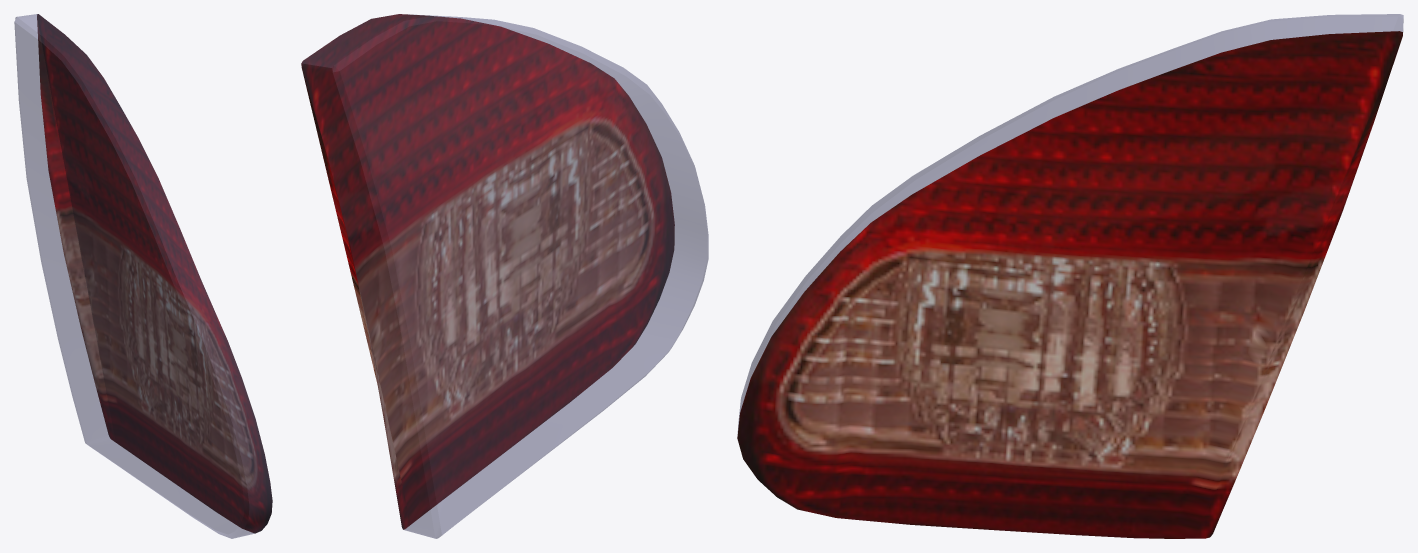
3 views of the same model, side by side, from view 1: azimuth 30°, elevation 25°; view 2: azimuth 150°, elevation 25°; view 3: azimuth 270°, elevation 25° (orthographic). The views are drawn at different scales.
Visible parts, largest first — view 1: Y211_541D_L_Y211_541D_L_1_DTaSI, Y211_541D_L_2_N_Y211_541D_L; view 2: Y211_541D_L_Y211_541D_L_1_DTaSI, Y211_541D_L_2_N_Y211_541D_L; view 3: Y211_541D_L_2_N_Y211_541D_L, Y211_541D_L_Y211_541D_L_1_DTaSI.
Part boxes in pixels (x1,y1,x2,y2): Y211_541D_L_Y211_541D_L_1_DTaSI: (14, 14, 272, 538); Y211_541D_L_2_N_Y211_541D_L: (37, 14, 272, 533); Y211_541D_L_Y211_541D_L_1_DTaSI: (301, 14, 708, 538); Y211_541D_L_2_N_Y211_541D_L: (301, 14, 674, 529); Y211_541D_L_2_N_Y211_541D_L: (737, 31, 1402, 538); Y211_541D_L_Y211_541D_L_1_DTaSI: (737, 14, 1403, 436).
Bounding box in the file's own units: 2.87 × 22.67 × 26.82.
